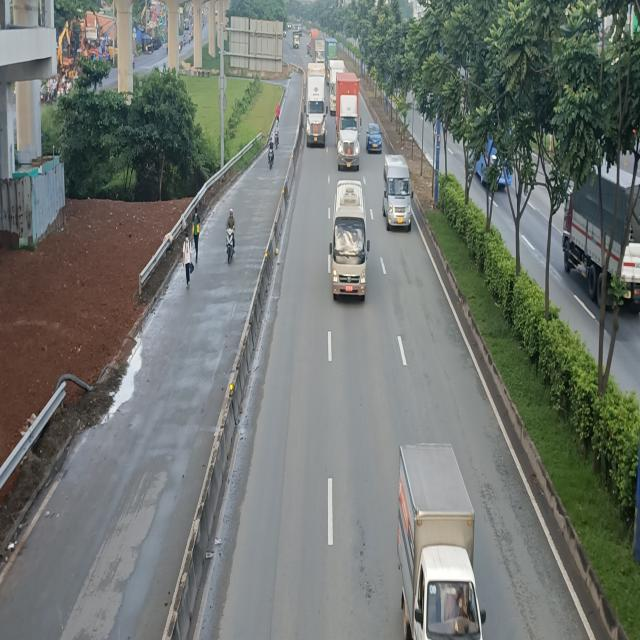car: (368, 124, 384, 154)
coach: (330, 180, 370, 304)
container: (336, 74, 361, 172), (305, 61, 326, 147)
truck: (399, 447, 491, 640)
van: (384, 157, 415, 235)
